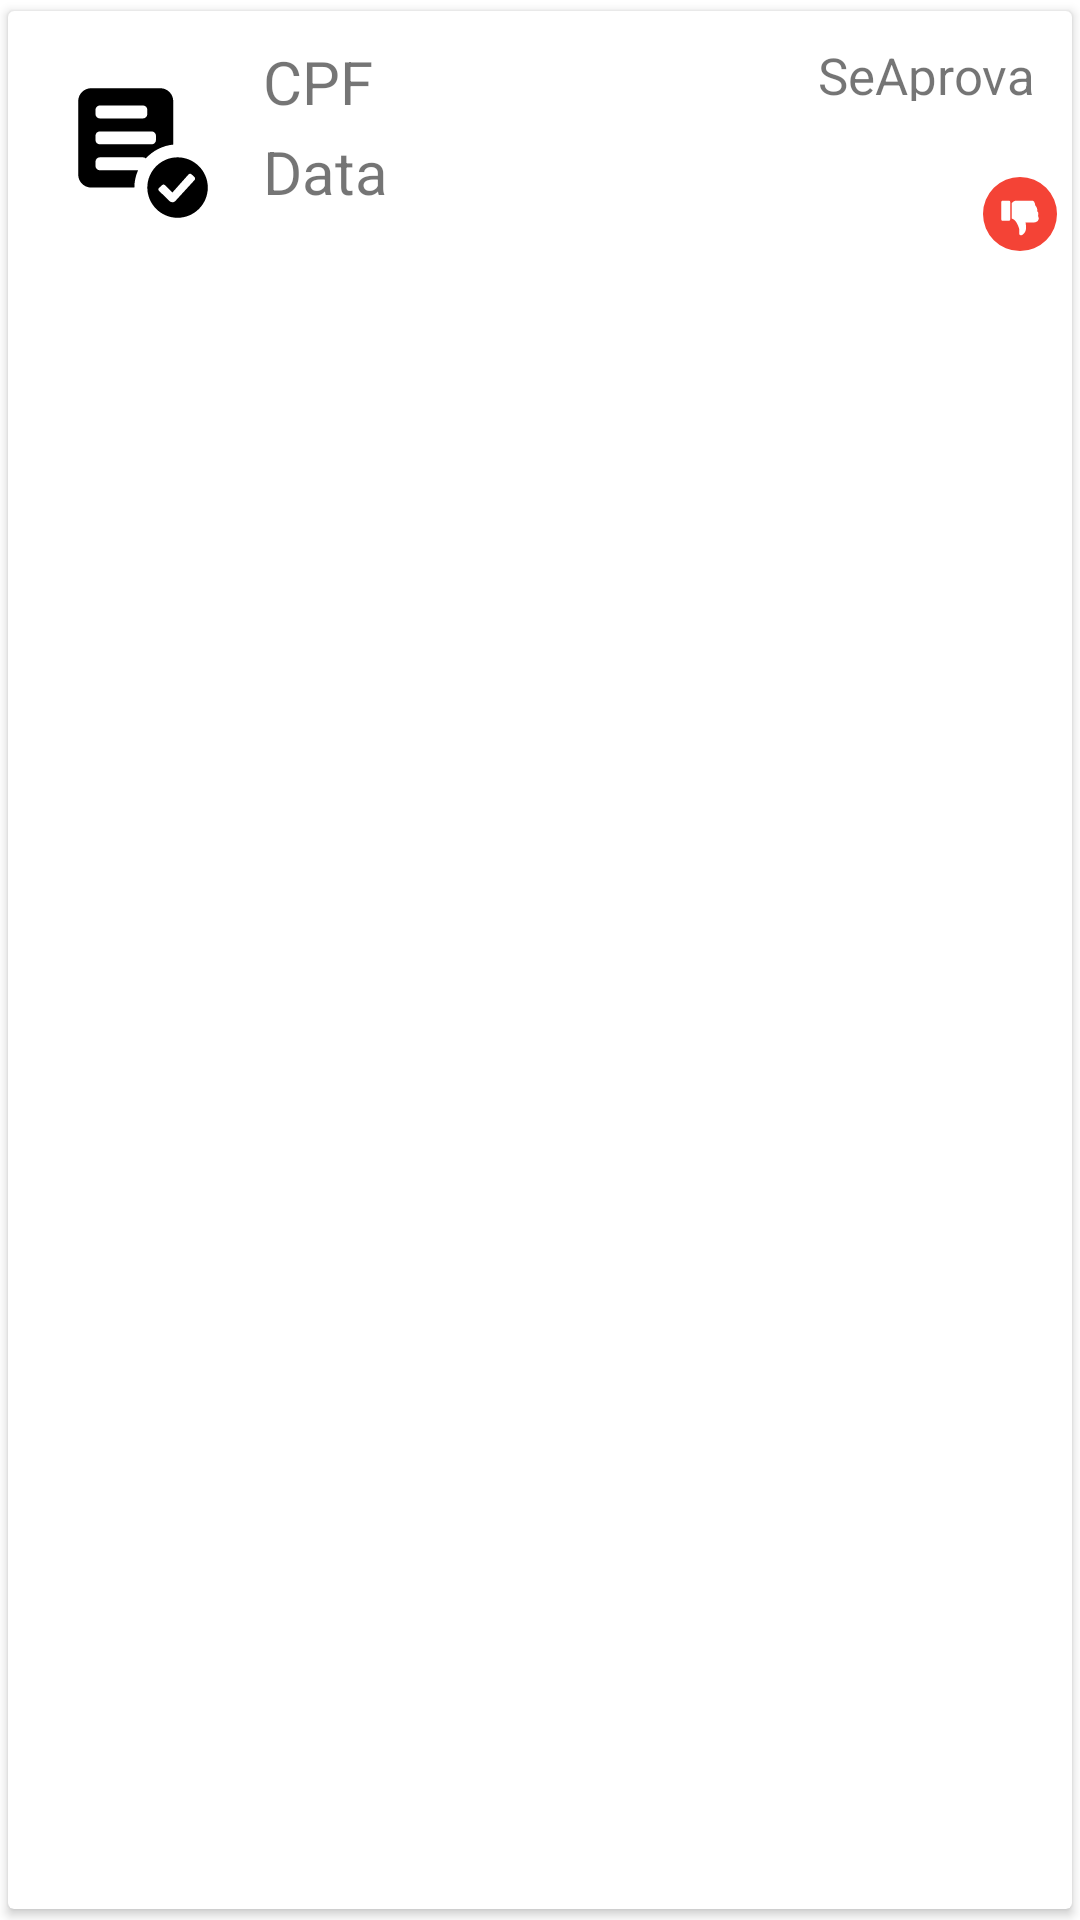

Icons on this 1080 x 1920 Android screen, each with its box as BBox(x1, y1, x2, y2):
dislike: BBox(983, 177, 1057, 251)
